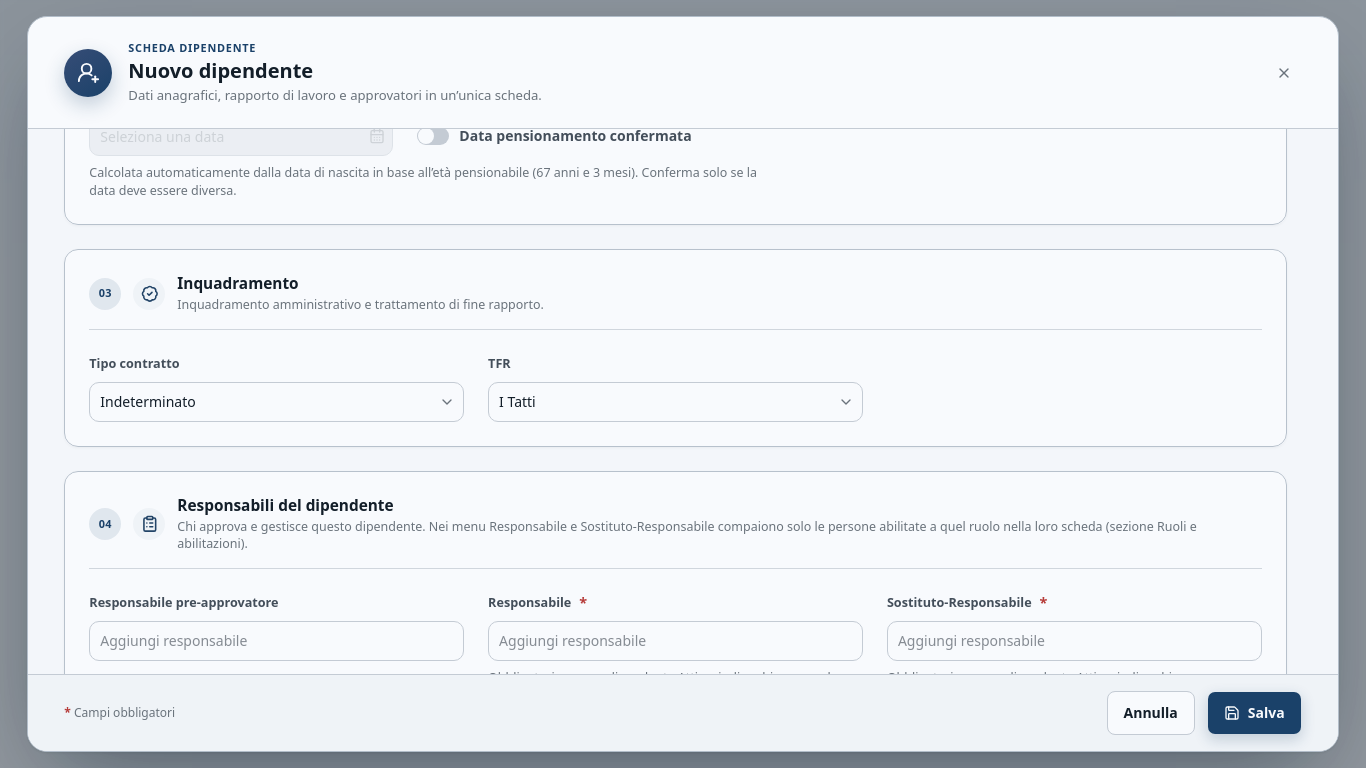
EmployeeForm modal › offers the TFR options in a listbox
(page scrolled)
Click the dropdown named "TFR": (517, 401) [488, 382, 863, 422]
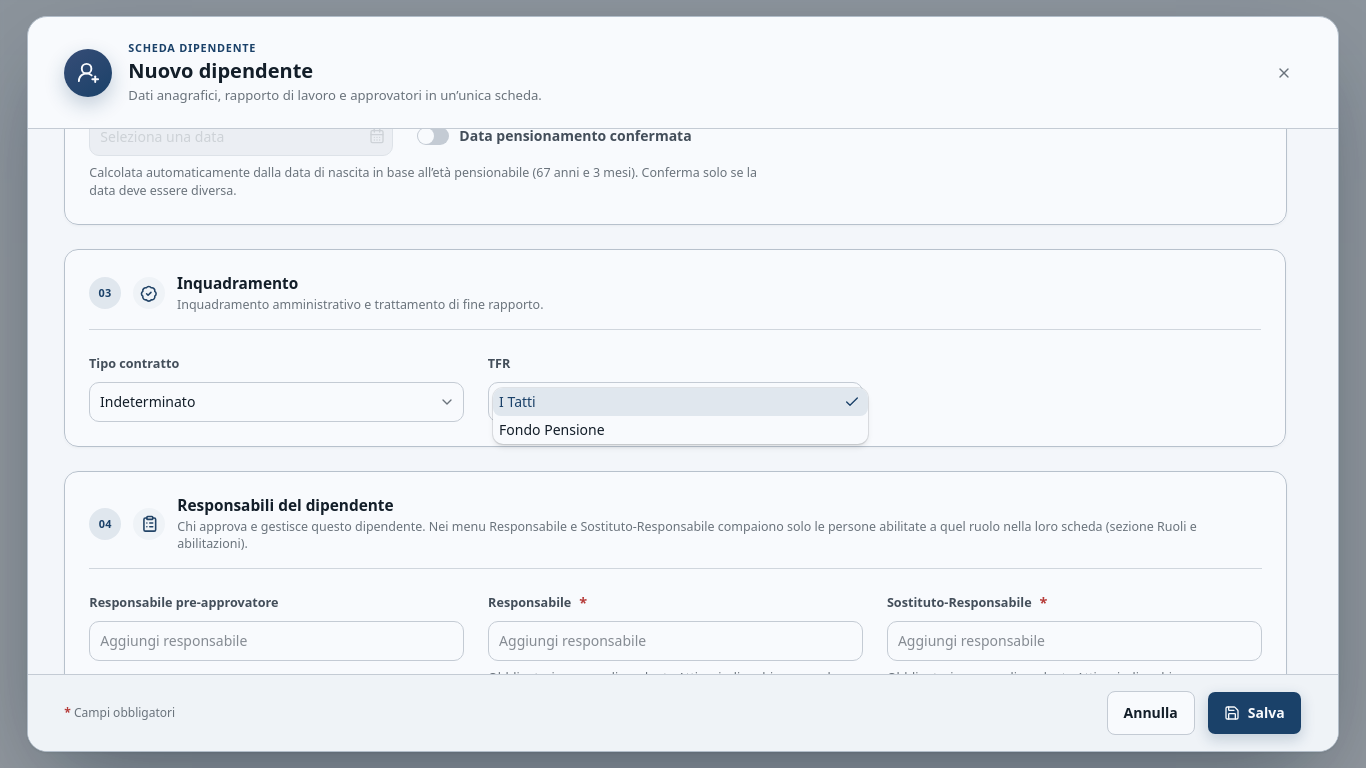
Check: the option "I Tatti" is shown, box [493, 388, 868, 416]
Check: the option "Fondo Pensione" is shown, box [499, 420, 605, 439]
